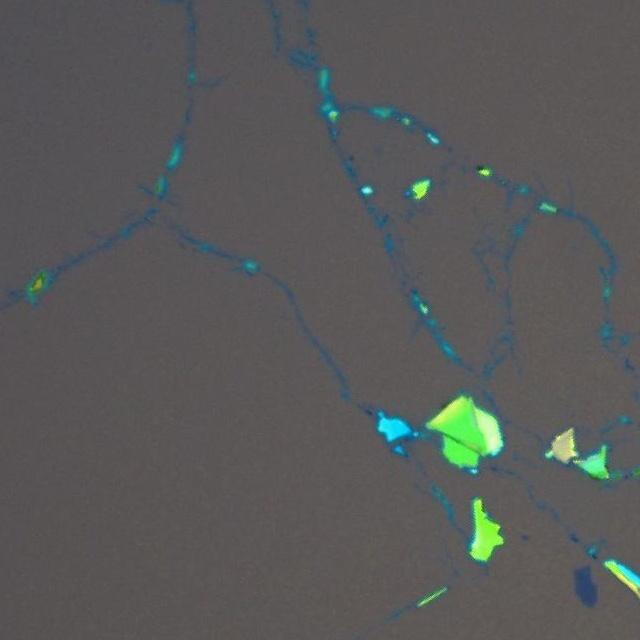monolayer-eWW4: (574, 565, 599, 607)
